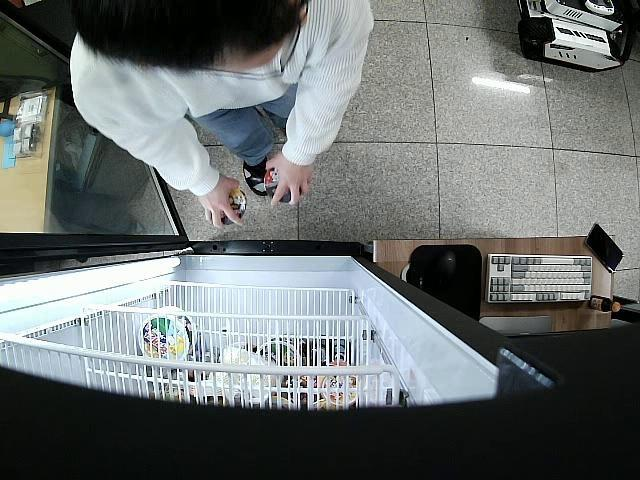08_buldak_S: (265, 166, 299, 206), (215, 188, 249, 226)
